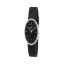watch: (23, 17, 41, 47)
